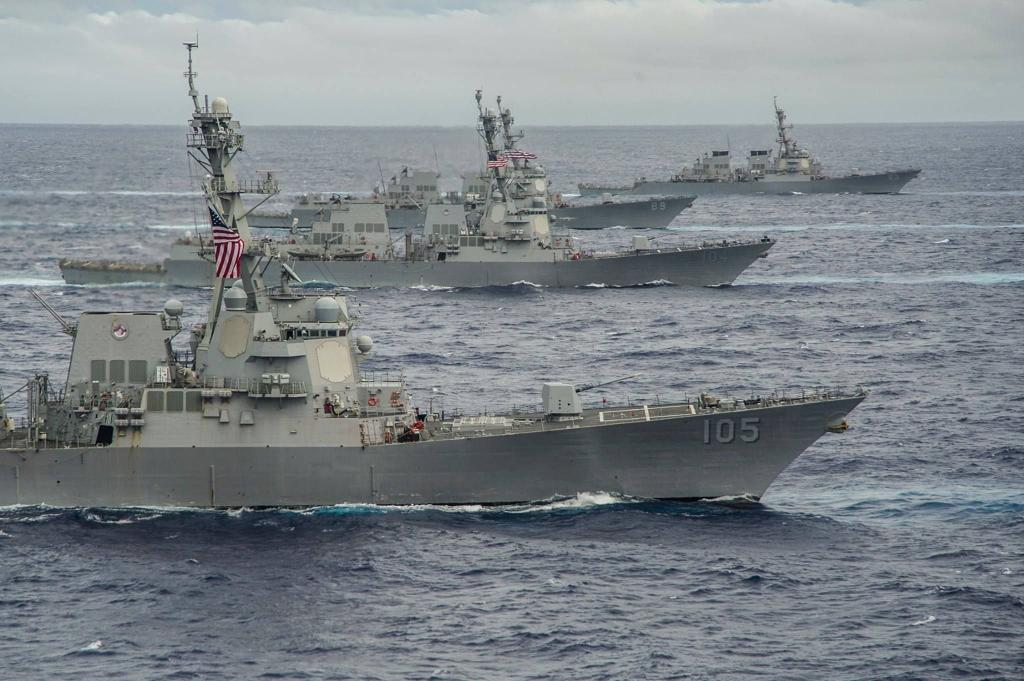Warship: (0, 32, 878, 518), (51, 109, 777, 301), (246, 95, 706, 234), (573, 77, 925, 202)
